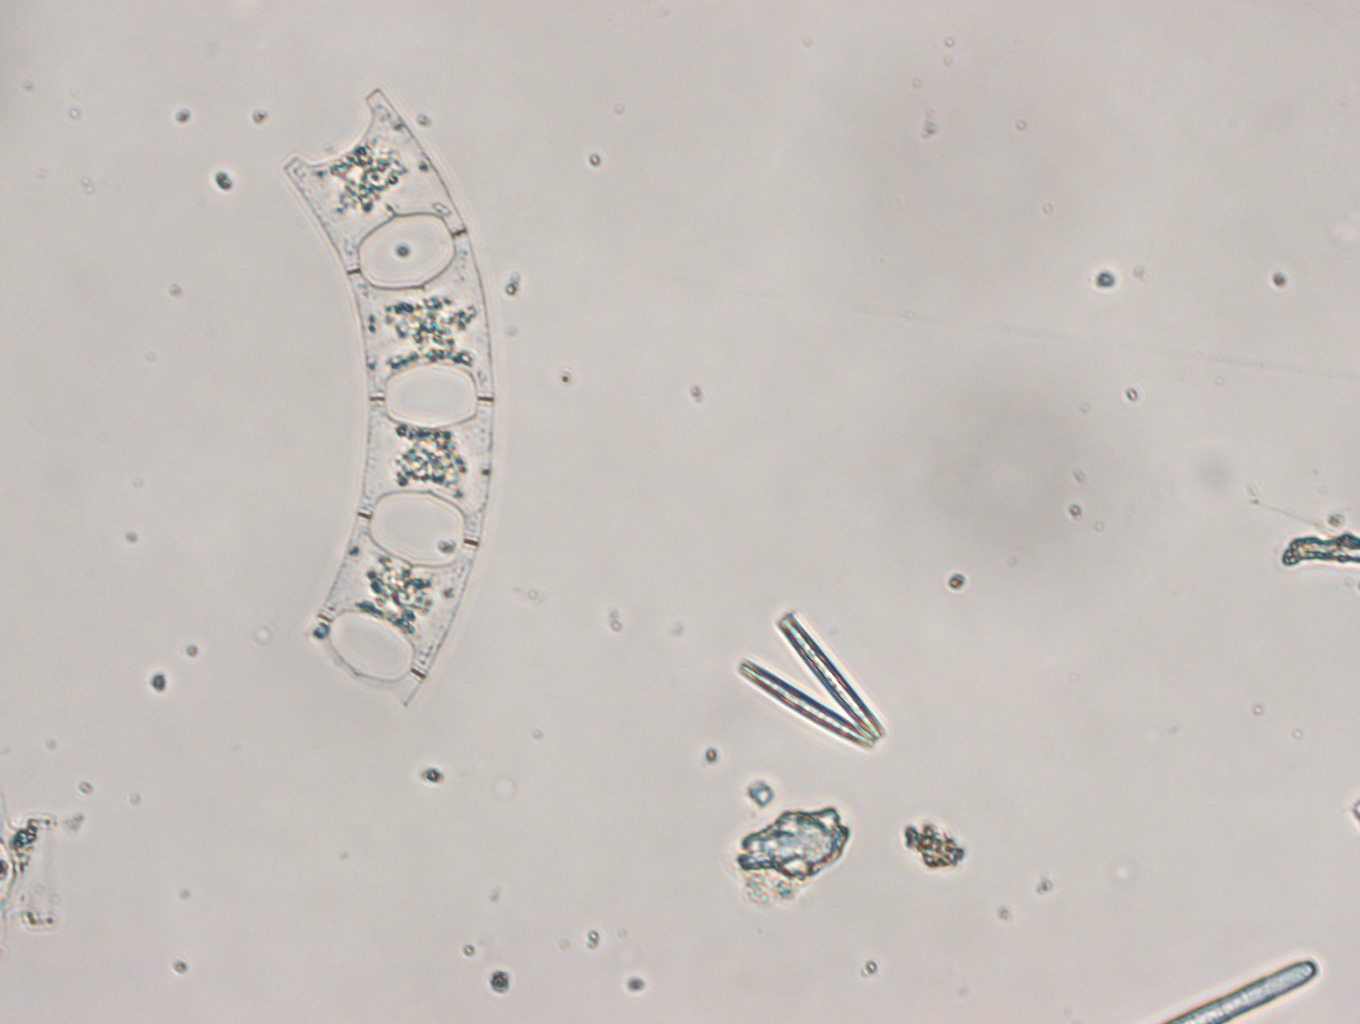eucampia: (248, 97, 509, 714)
thalassionema frauenfeldii: (736, 605, 894, 763)
